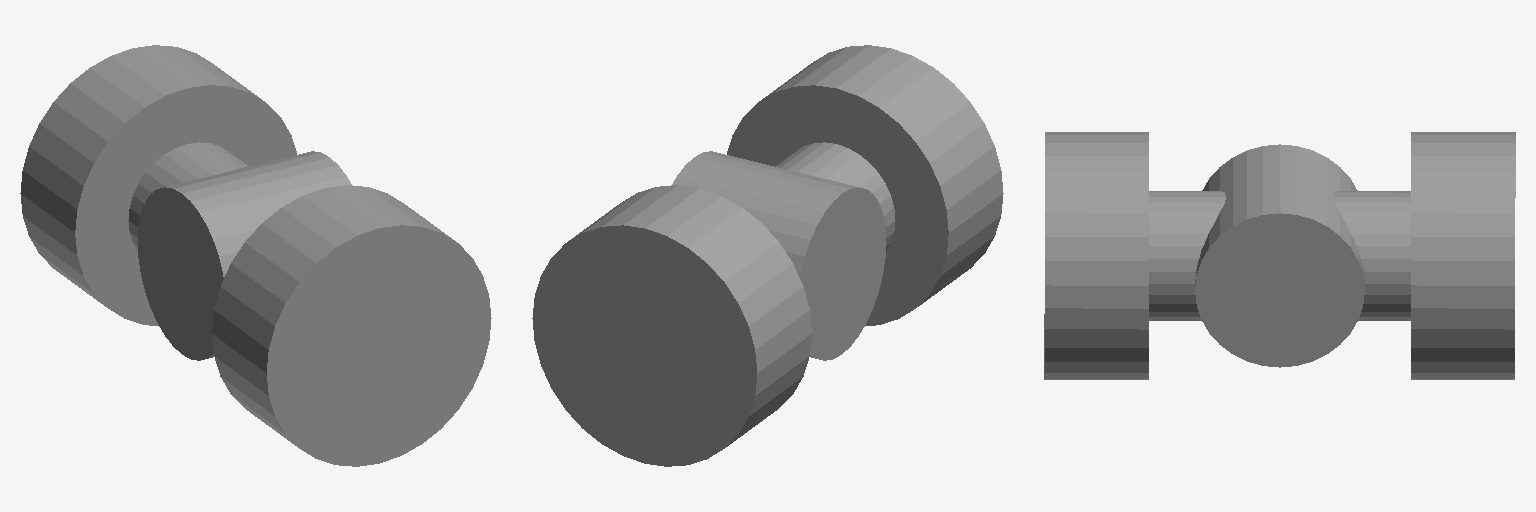
The robot description file, URDF, robot "hammer":
<?xml version="0.0" ?>
<robot name="hammer">
    <material name="hmr_col">
        <color rgba="0.3 0.3 1.0 0.5"/>
    </material>
    <material name="hmr_red">
        <color rgba=".65 0 0 1"/>
    </material>
    <material name="hmr_metal">
        <color rgba=".65 .65 .65 1"/>
        <texture filename="../textures/metal1.png"/>
    </material>
    <material name="hmr_wood">
        <texture filename="../textures/wood1.png"/>
    </material>

	<link name="hammer_red">
		<inertial>
			<origin rpy="0.00000 -0.00000 0.00000" xyz="0.00000 0.00000 0.00000"/>
			<mass value="0.01"/>
			<inertia ixx="0.01968" ixy="0" ixz="0" iyy="0.02142" iyz="0" izz="0.01184"/>
		</inertial>
		<visual>
			<origin rpy="0 1.57 0" xyz="0.00000 0.00000 0.00000"/>
			<geometry>
				<mesh filename="meshes/hammer/hammerhandle.stl"/>
			</geometry>
			<material name="mat_-1_0">
				<color rgba=".65 0 0 1" />
			</material>
		</visual>
		<collision>
			<origin rpy="0 1.57 0" xyz="0.00000 0.00000 0.00000"/>
			<geometry>
				<capsule length="0.28000" radius="0.02000"/>
			</geometry>
		</collision>
	</link>

	<link name="hammer_metal">
		<inertial>
			<origin rpy="0.00000 -0.00000 0.00000" xyz="0.0000 0.00000 0.00000"/>
			<mass value="0.01"/>
			<inertia ixx="0.01968" ixy="0" ixz="0" iyy="0.02142" iyz="0" izz="0.01184"/>
		</inertial>

		<visual>
			<origin rpy="0 1.57 0" xyz="0.16000 0.00000 0.00000"/>
			<geometry>
				<cylinder length="0.05000" radius="0.02600"/>
			</geometry>
			<material name="hmr_metal" />
		</visual>
		<visual>
			<origin rpy="1.57 0 0" xyz="0.16000 0.02600 0.00000"/>
			<geometry>
				<cylinder length="0.03000" radius="0.02000"/>
			</geometry>
			<material name="hmr_metal" />
		</visual>
		<visual>
			<origin rpy="1.57 0 0" xyz="0.16000 0.05600 0.00000"/>
			<geometry>
				<cylinder length="0.03200" radius="0.03800"/>
			</geometry>
			<material name="hmr_metal" />
		</visual>
		<visual>
			<origin rpy="1.57 0 0" xyz="0.16000 -0.05600 0.00000"/>
			<geometry>
				<cylinder length="0.03200" radius="0.03800"/>
			</geometry>
			<material name="hmr_metal" />
		</visual>
		<visual>
			<origin rpy="1.57 0 0" xyz="0.16000 -0.02600 0.00000"/>
			<geometry>
				<cylinder length="0.03000" radius="0.02000"/>
			</geometry>
			<material name="hmr_metal" />
		</visual>

		<collision>
			<origin rpy="0 1.57 0" xyz="0.16000 0.00000 0.00000"/>
			<geometry>
				<cylinder length="0.05000" radius="0.02600"/>
			</geometry>
		</collision>
		<collision>
			<origin rpy="1.57 0 0" xyz="0.16000 0.02600 0.00000"/>
			<geometry>
				<cylinder length="0.03000" radius="0.02000"/>
			</geometry>
		</collision>
		<collision>
			<origin rpy="1.57 0 0" xyz="0.16000 0.05600 0.00000"/>
			<geometry>
				<cylinder length="0.03200" radius="0.03800"/>
			</geometry>
		</collision>
		<collision>
			<origin rpy="1.57 0 0" xyz="0.16000 -0.05600 0.00000"/>
			<geometry>
				<cylinder length="0.03200" radius="0.03800"/>
			</geometry>
		</collision>
		<collision>
			<origin rpy="1.57 0 0" xyz="0.16000 -0.02600 0.00000"/>
			<geometry>
				<cylinder length="0.03000" radius="0.02000"/>
			</geometry>
		</collision>
	</link>

	<link name="hammer_col">
		<inertial>
			<origin rpy="0.00000 -0.00000 0.00000" xyz="0.00000 0.00000 0.00000"/>
			<mass value="0.01"/>
			<inertia ixx="0.01968" ixy="0" ixz="0" iyy="0.02142" iyz="0" izz="0.01184"/>
		</inertial>
		<visual>
			<origin rpy="0 1.57 0" xyz="0.16000 0.00000 0.00000"/>
			<geometry>
				<cylinder length="0.05000" radius="0.02600"/>
			</geometry>
			<material name="hmr_col" />
		</visual>
		<visual>
			<origin rpy="1.57 0 0" xyz="0.16000 0.02600 0.00000"/>
			<geometry>
				<cylinder length="0.03000" radius="0.02000"/>
			</geometry>
			<material name="hmr_col" />
		</visual>
		<visual>
			<origin rpy="1.57 0 0" xyz="0.16000 0.05600 0.00000"/>
			<geometry>
				<cylinder length="0.03200" radius="0.03800"/>
			</geometry>
			<material name="hmr_col" />
		</visual>
		<visual>
			<origin rpy="1.57 0 0" xyz="0.16000 -0.05600 0.00000"/>
			<geometry>
				<cylinder length="0.03200" radius="0.03800"/>
			</geometry>
			<material name="hmr_col" />
		</visual>
		<visual>
			<origin rpy="1.57 0 0" xyz="0.16000 -0.02600 0.00000"/>
			<geometry>
				<cylinder length="0.03000" radius="0.02000"/>
			</geometry>
			<material name="hmr_col" />
		</visual>

		<collision>
			<origin rpy="0 1.57 0" xyz="0.16000 0.00000 0.00000"/>
			<geometry>
				<cylinder length="0.05000" radius="0.02600"/>
			</geometry>
		</collision>
		<collision>
			<origin rpy="1.57 0 0" xyz="0.16000 0.02600 0.00000"/>
			<geometry>
				<cylinder length="0.03000" radius="0.02000"/>
			</geometry>
		</collision>
		<collision>
			<origin rpy="1.57 0 0" xyz="0.16000 0.05600 0.00000"/>
			<geometry>
				<cylinder length="0.03200" radius="0.03800"/>
			</geometry>
		</collision>
		<collision>
			<origin rpy="1.57 0 0" xyz="0.16000 -0.05600 0.00000"/>
			<geometry>
				<cylinder length="0.03200" radius="0.03800"/>
			</geometry>
		</collision>
		<collision>
			<origin rpy="1.57 0 0" xyz="0.16000 -0.02600 0.00000"/>
			<geometry>
				<cylinder length="0.03000" radius="0.02000"/>
			</geometry>
		</collision>
	</link>

	<joint name="jointfix_2_0" type="fixed">
		<parent link="hammer_red"/>
		<child link="hammer_metal"/>
		<dynamics damping="1.0" friction="0.0001"/>
		<origin rpy="0.00000 -0.00000 0.00000" xyz="0.00000 0.00000 0.00000"/>
		<axis xyz="0.00000 0.00000 0.00000"/>
	</joint>
	<joint name="jointfix_3_0" type="fixed">
		<parent link="hammer_metal"/>
		<child link="hammer_col"/>
		<dynamics damping="1.0" friction="0.0001"/>
		<origin rpy="0.00000 -0.00000 0.00000" xyz="0.00000 0.00000 0.00000"/>
		<axis xyz="0.00000 0.00000 0.00000"/>
	</joint>
</robot>

--- Facts derived from the render (not from the file) ---
Views: 3 orthographic renders of the robot side by side, from view 1: azimuth 30°, elevation 25°; view 2: azimuth 150°, elevation 25°; view 3: azimuth 270°, elevation 25°.
Model hammer with 3 links and 2 joints (2 fixed), rooted at hammer_red, posed every joint at zero.
Visible links, largest first — view 1: hammer_metal; view 2: hammer_metal; view 3: hammer_metal.
Link boxes in pixels (x1=…): hammer_metal: x1=20, y1=45, x2=491, y2=466; hammer_metal: x1=532, y1=45, x2=1003, y2=466; hammer_metal: x1=1044, y1=132, x2=1515, y2=379.
Size in the robot's own frame: 0.076 by 0.1441 by 0.076 metres.
Meshes: 1 distinct files referenced, 0 mesh visuals loaded (none loaded); not drawn: 1 (reference not matched to a file when rendering).